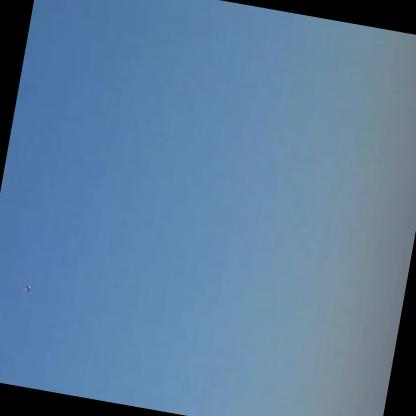plane: (19, 280, 37, 297)
